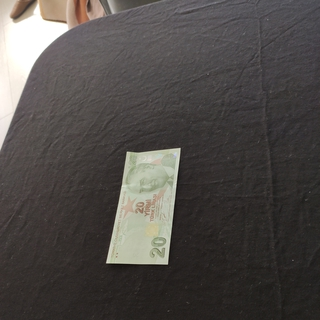20TLFront: (105, 147, 180, 264)
